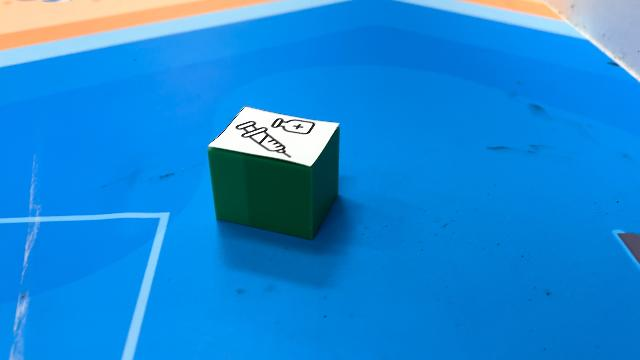syringe: (208, 106, 342, 240)
